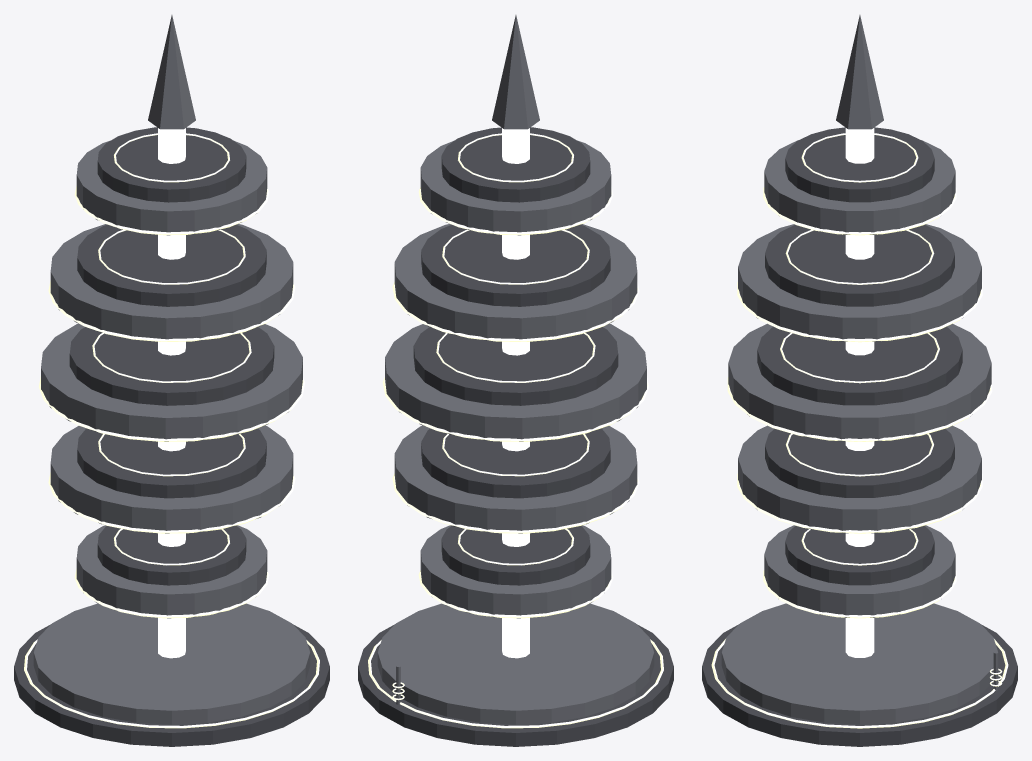
File: zone_high_5_t3.glb
3 renders of one model, left to right at view 1: azimuth 30°, elevation 25°; view 2: azimuth 150°, elevation 25°; view 3: azimuth 270°, elevation 25°, orthographic.
Visible parts, largest first — view 1: zone_high_5_t3, detail; view 2: zone_high_5_t3, detail; view 3: zone_high_5_t3, detail.
Part boxes in pixels (x1,y1,x2,y2): zone_high_5_t3: (14,15,329,746); detail: (92,133,251,565); zone_high_5_t3: (358,15,673,746); detail: (392,133,595,704); zone_high_5_t3: (702,15,1017,746); detail: (780,133,1002,691).
Bounding box in the file's own units: 28.8 × 67.02 × 28.8.
